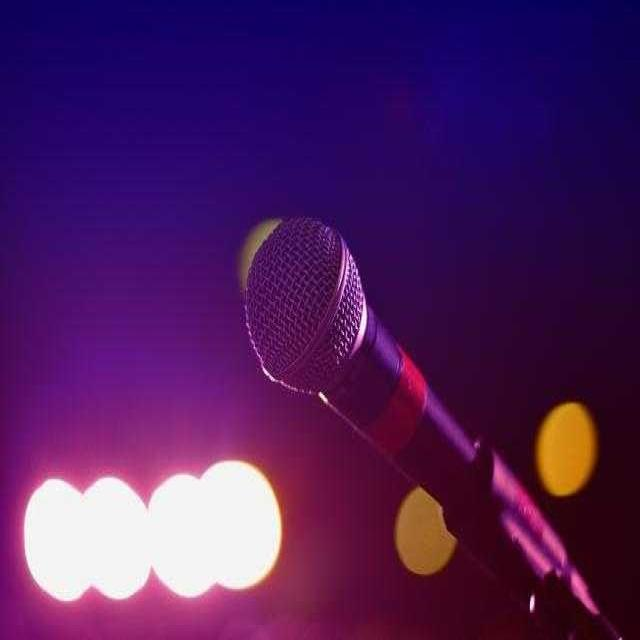microphone: (245, 219, 577, 589)
